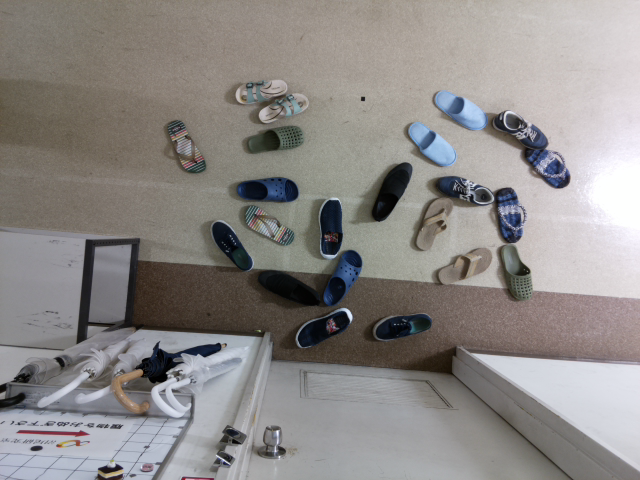Copy of Copy of Copy of Copy of Copy of Copy of Copy of shoes: (370, 161, 413, 222)
Copy of Copy of Copy of Copy of Copy of Copy of shoes: (316, 197, 343, 260)
Copy of Copy of Copy of Copy of Copy of shoes: (209, 219, 254, 272)
Copy of Copy of Copy of Copy of Copy of slipper: (434, 89, 487, 131)
Copy of Copy of Copy of Copy of shoes: (256, 268, 320, 307)
Copy of Copy of Copy of Copy of slipper: (406, 121, 457, 167)
Copy of Copy of Copy of shoes: (294, 307, 353, 349)
Copy of Copy of Copy of slipper: (236, 177, 298, 203)
Copy of Copy of shoes: (372, 312, 433, 342)
Copy of Copy of slipper: (322, 249, 362, 307)
Copy of shoes: (491, 109, 549, 150)
Copy of slipper: (499, 243, 533, 301)
sandal: (413, 197, 454, 252), (166, 119, 207, 173), (243, 204, 295, 246), (436, 247, 492, 285), (523, 146, 571, 188), (494, 187, 527, 243), (257, 92, 309, 124), (233, 77, 287, 106)
shoes: (435, 175, 495, 206)
slipper: (245, 125, 304, 154)
